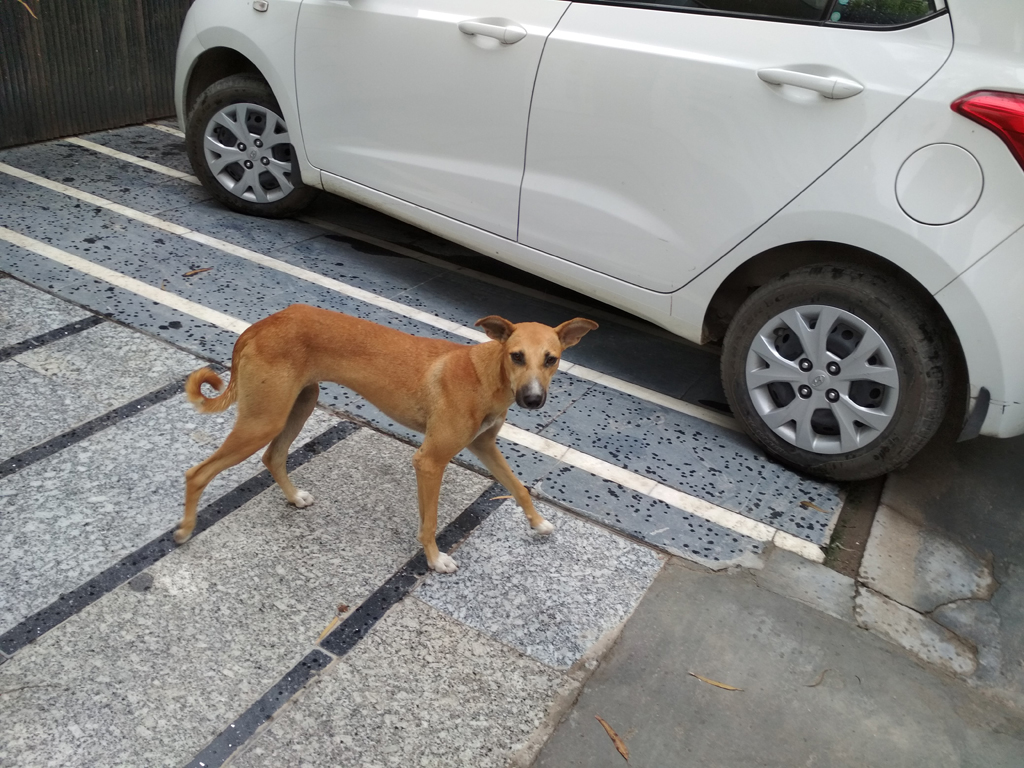dog: (170, 303, 598, 574)
